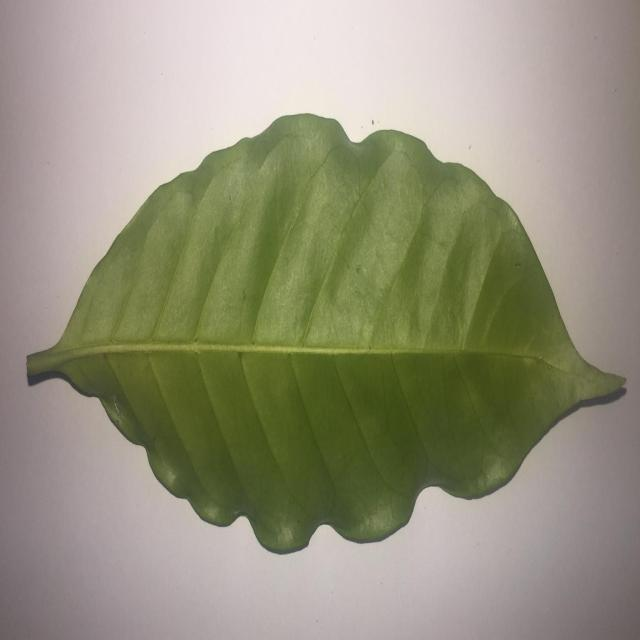nodisease: (28, 115, 624, 553)
